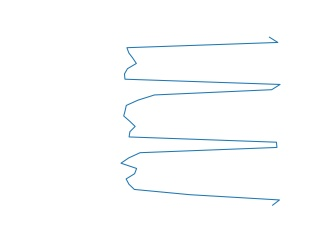majorRiverChannelBar: (120, 35, 284, 206)
